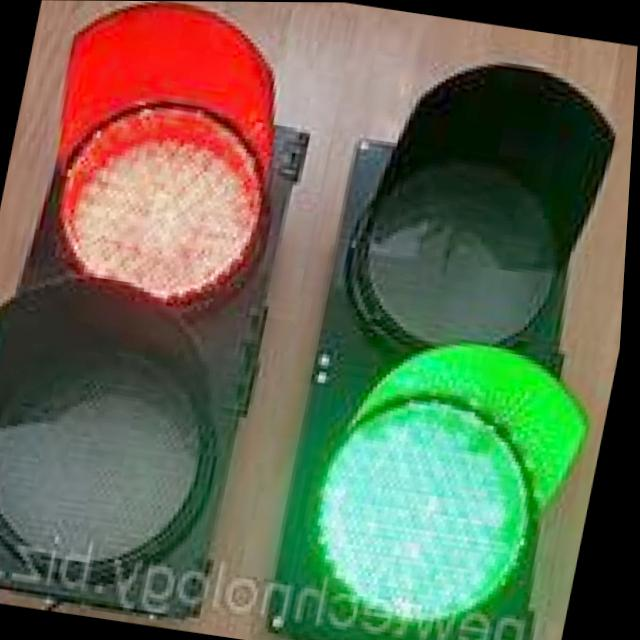green_light: (279, 336, 601, 640)
red_light: (2, 12, 311, 337)
